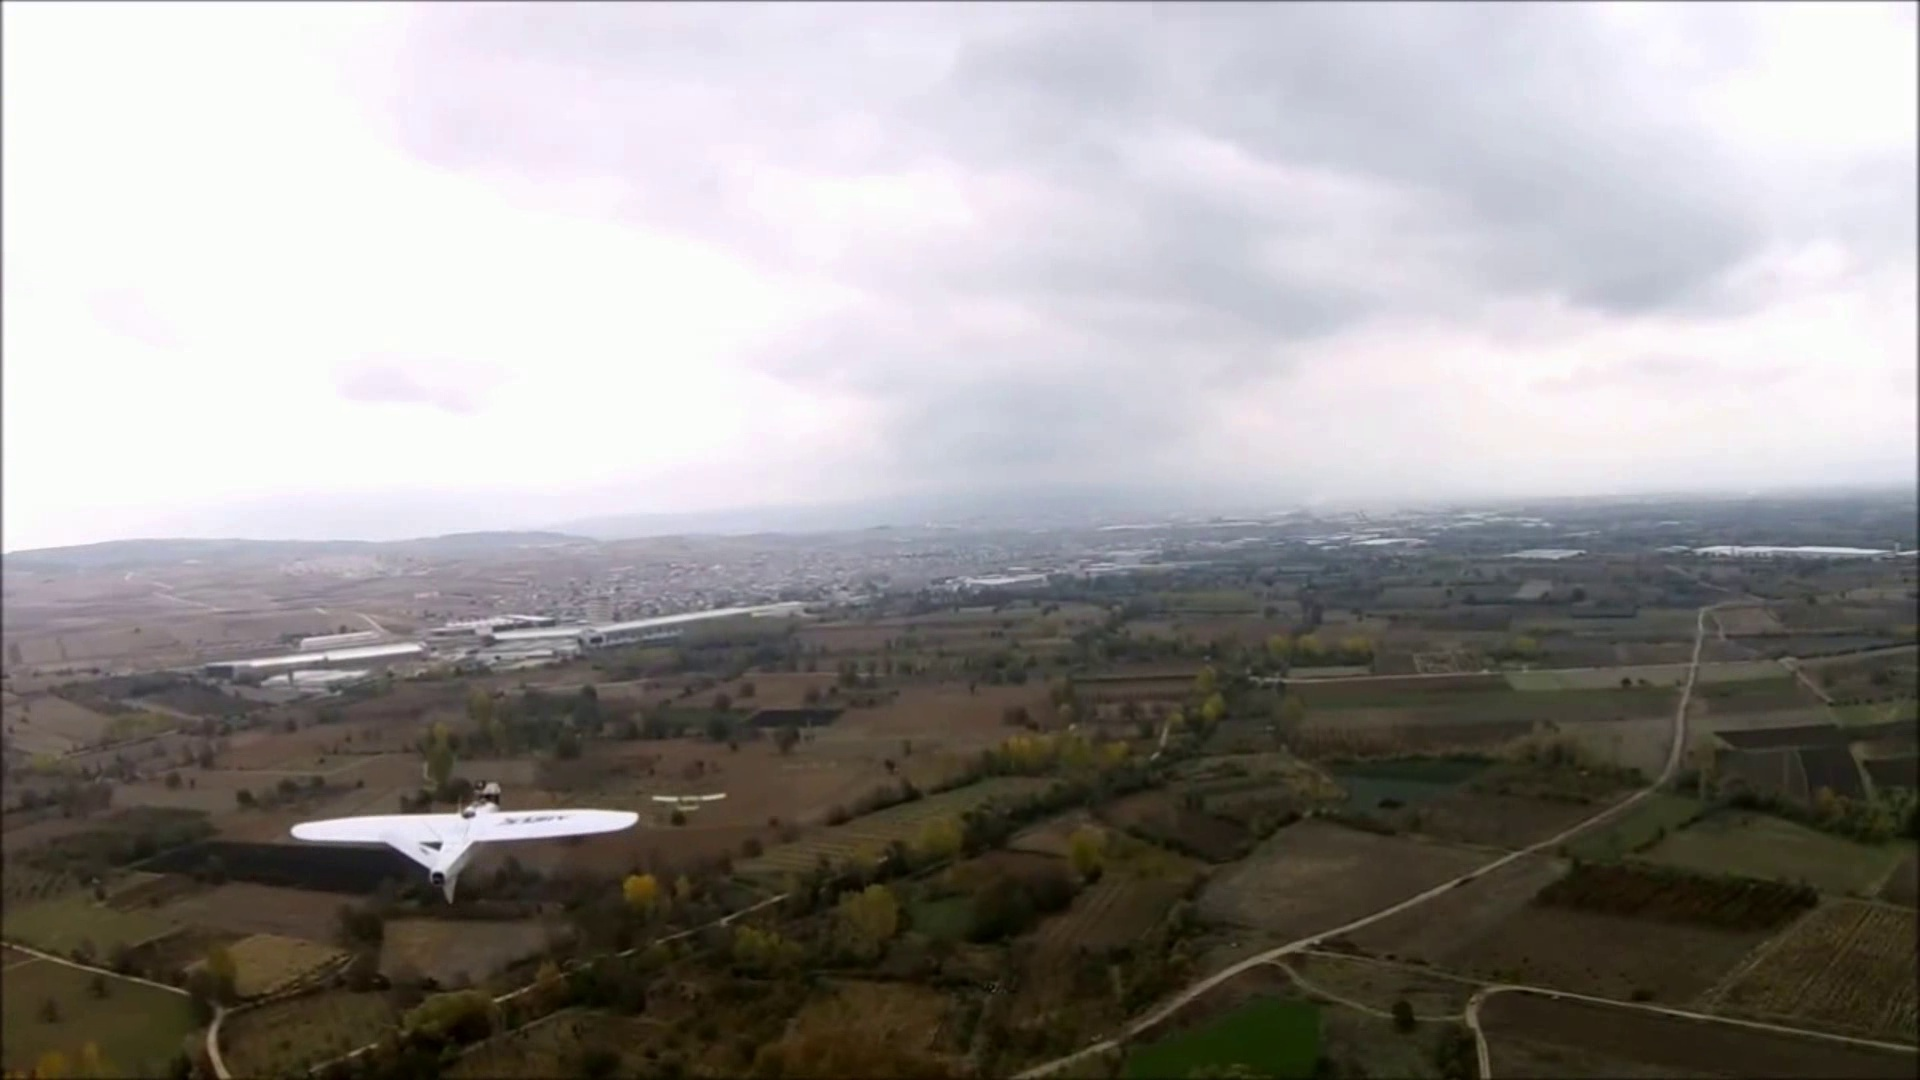airplane: (286, 800, 644, 903)
